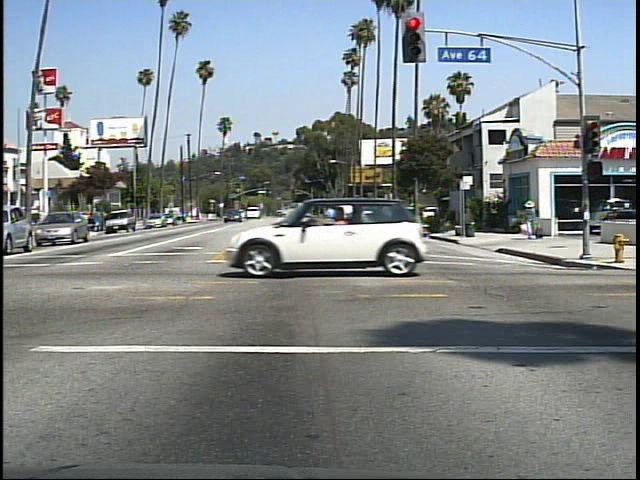person: (520, 196, 544, 243)
